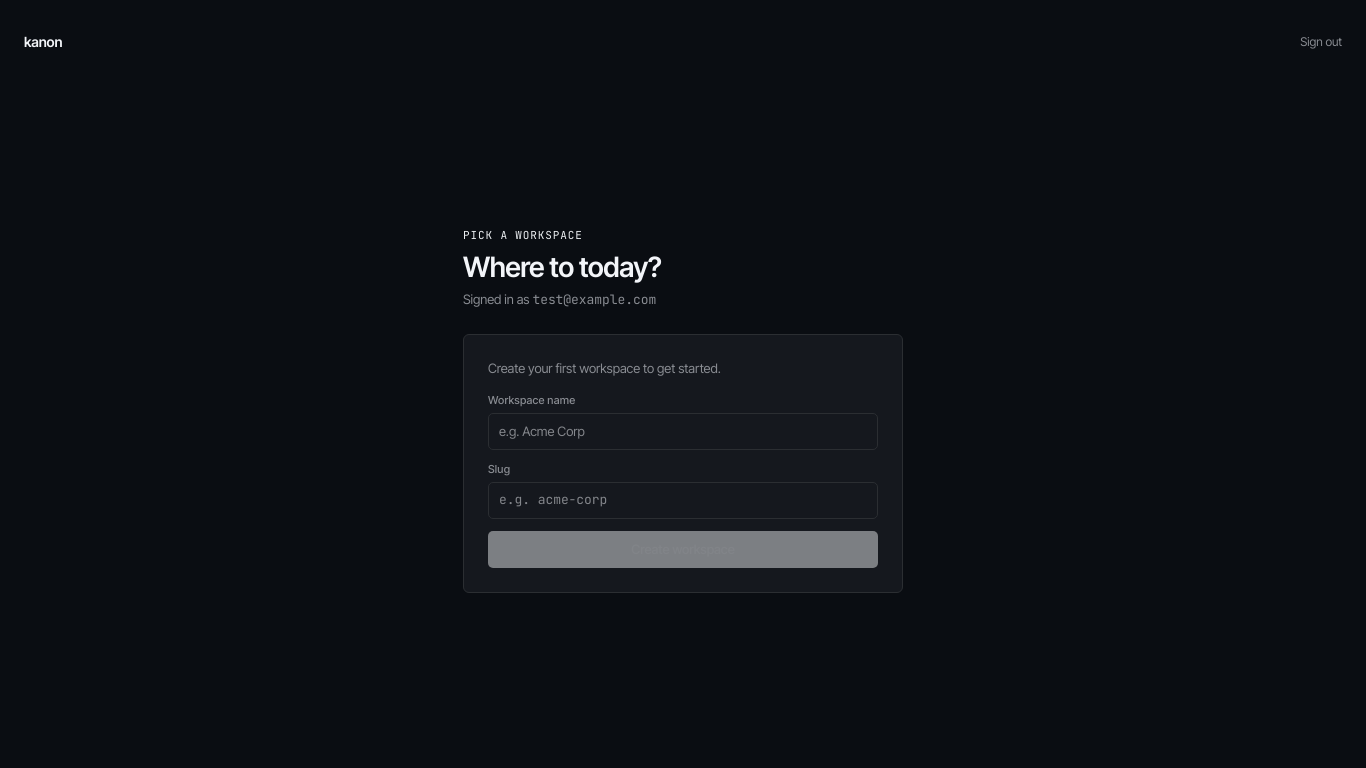
Scenario: WorkspaceSelectPage — create-workspace flow › WS-3: slug field auto-derives from name as the user types
Step 1. Type "My Team" into the field labelled "Workspace name" → coordinates (683, 432), box [488,413,878,450]
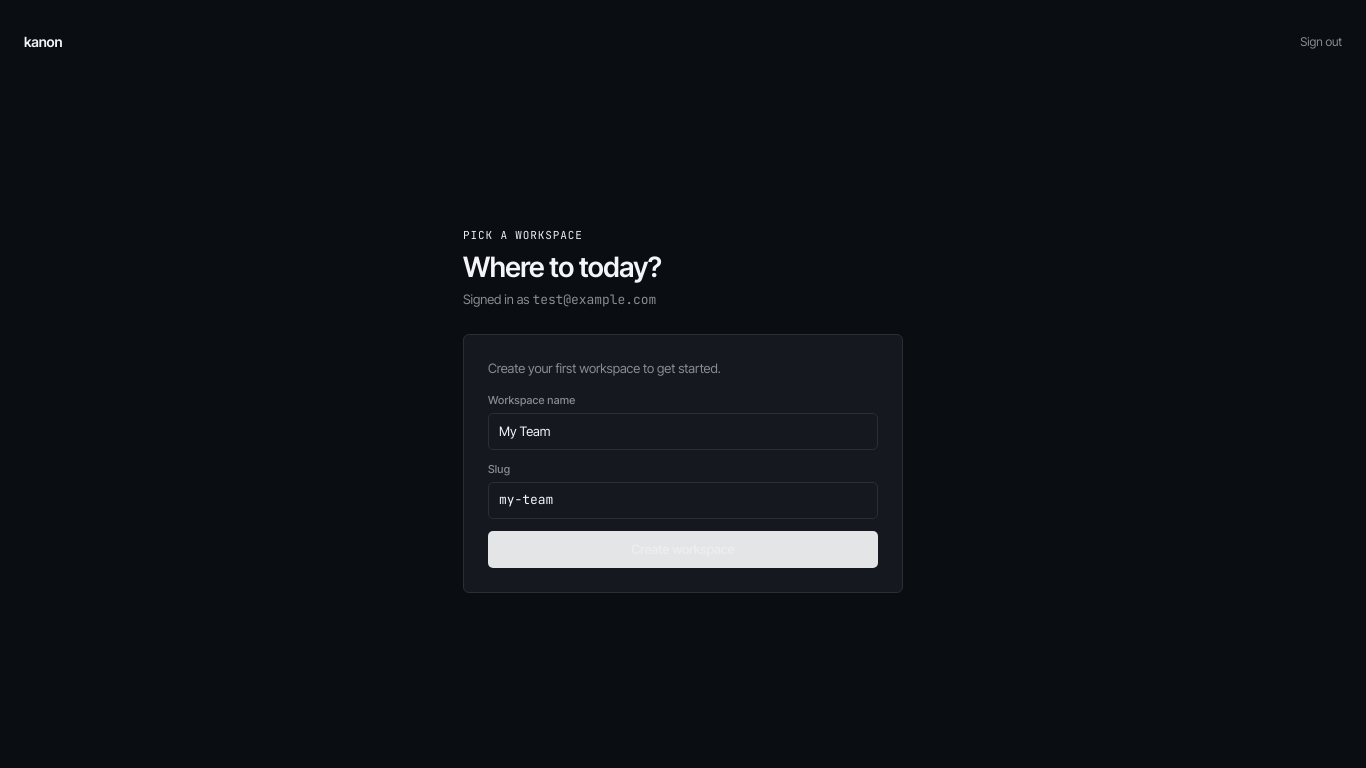
Expected: the field labelled "Slug" holds "my-team", [488,482,878,519]
